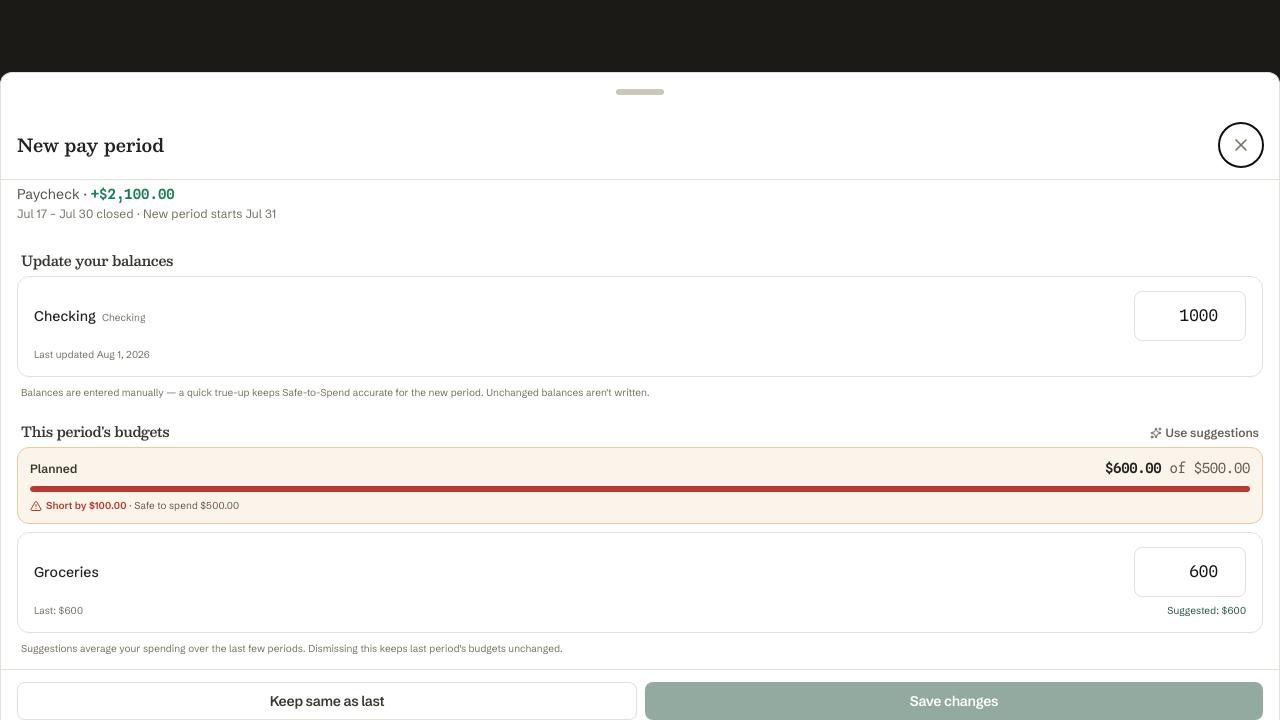
PayPeriodCeremonyDrawer — fit meter › folds an UNSAVED checking-balance edit into the available cash
Expected: the element with test id "ceremony-meter" shows "Short by $100.00", [46,499,126,512]
Note: Typing a higher balance (nothing written yet) must move the meter.
Replace the text in the number field named "Checking balance" with "1300". click: coordinates (1190, 316)
box: [1134,291,1246,341]
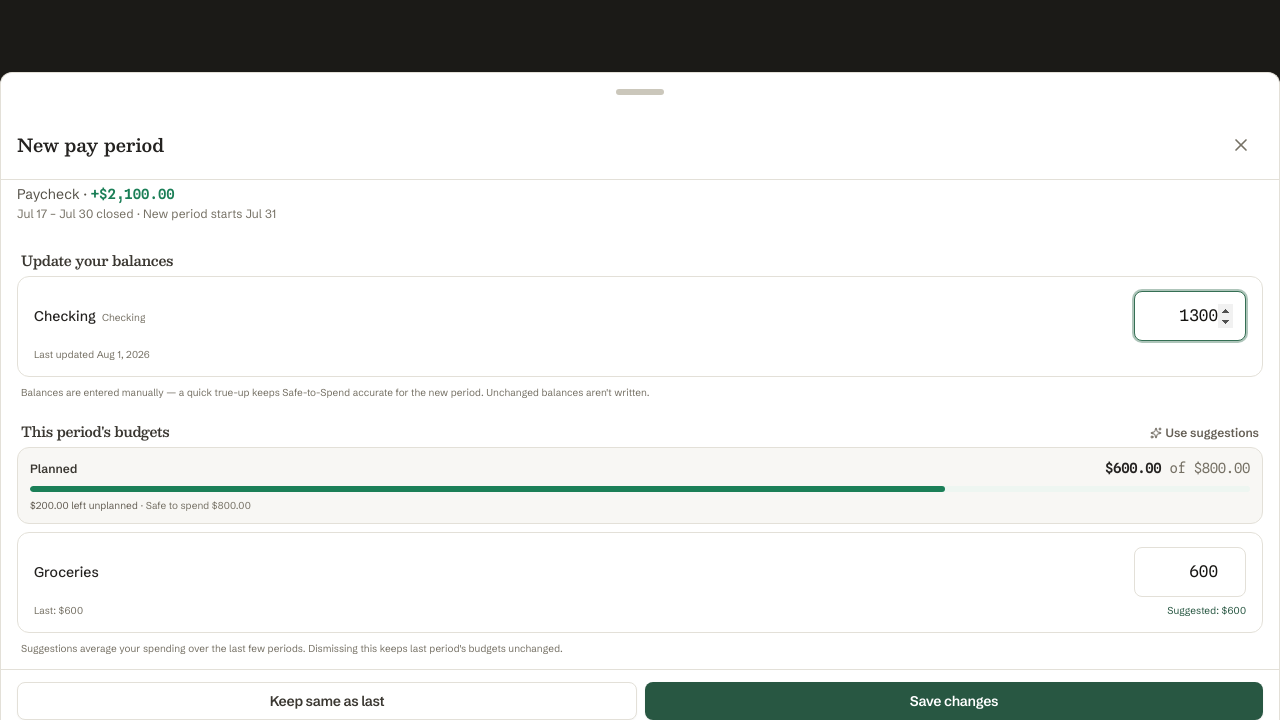
Result: the element with test id "ceremony-meter" shows "$600.00 of $800.00" at [17,447,1263,524]
Result: the element with test id "ceremony-meter" shows "$200.00 left unplanned" at [30,499,138,512]
